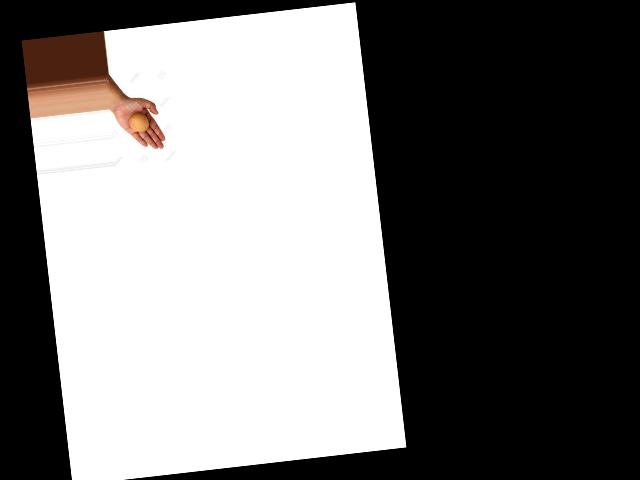egg: (127, 110, 149, 132)
